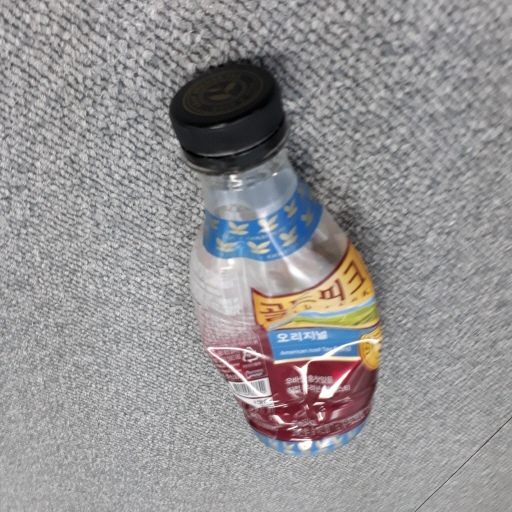Plastic_0: (167, 60, 385, 457)
